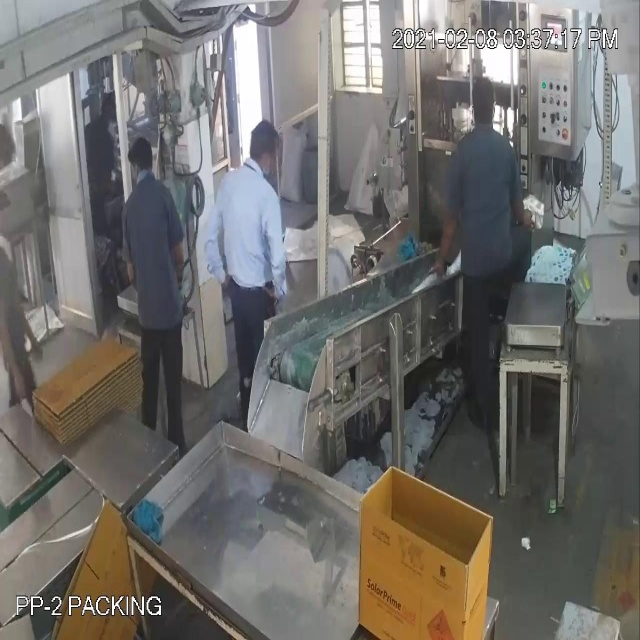Sin_guantes: (265, 204, 296, 315), (432, 188, 461, 287), (206, 203, 233, 306)
